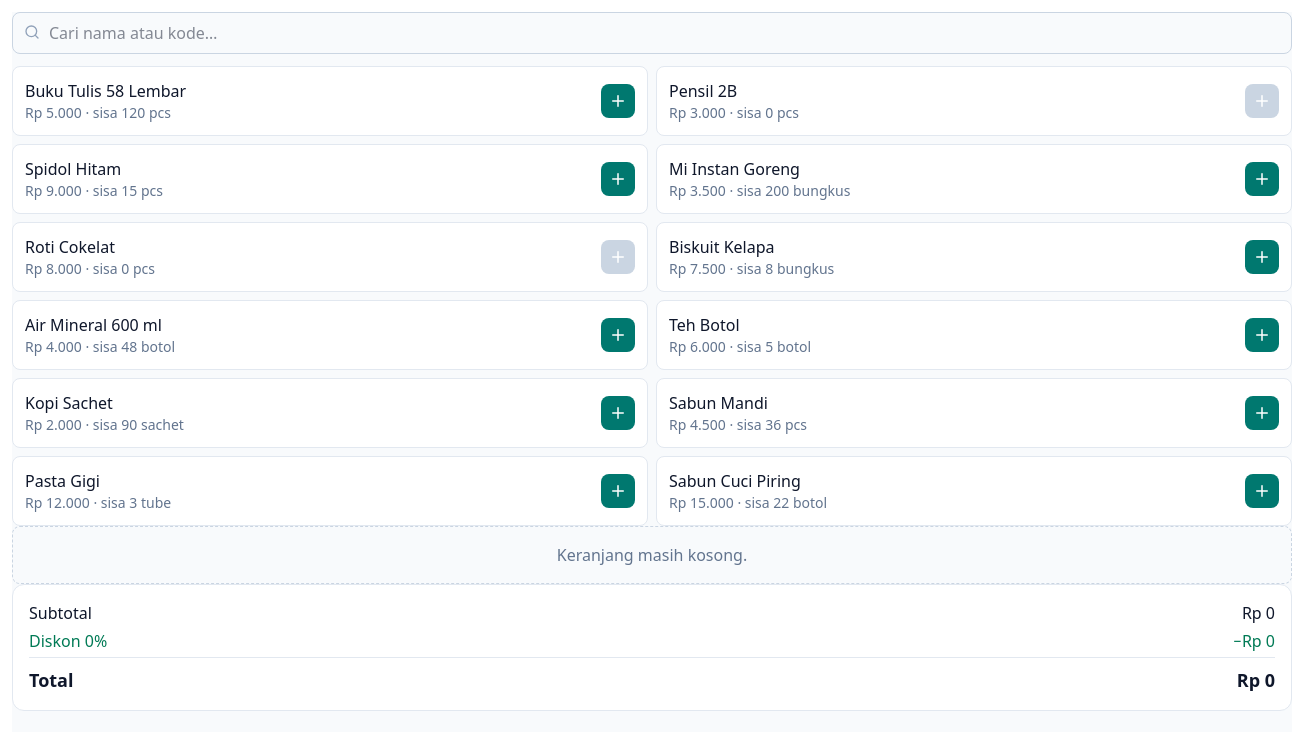
Scenario: Kasir: keranjang dan diskon › tombol tambah nonaktif setelah jumlah mencapai stok (Pasta Gigi, stok 3)
Click the button named "Tambah Pasta Gigi ke keranjang" at x=618, y=491, box [601,474,635,508]
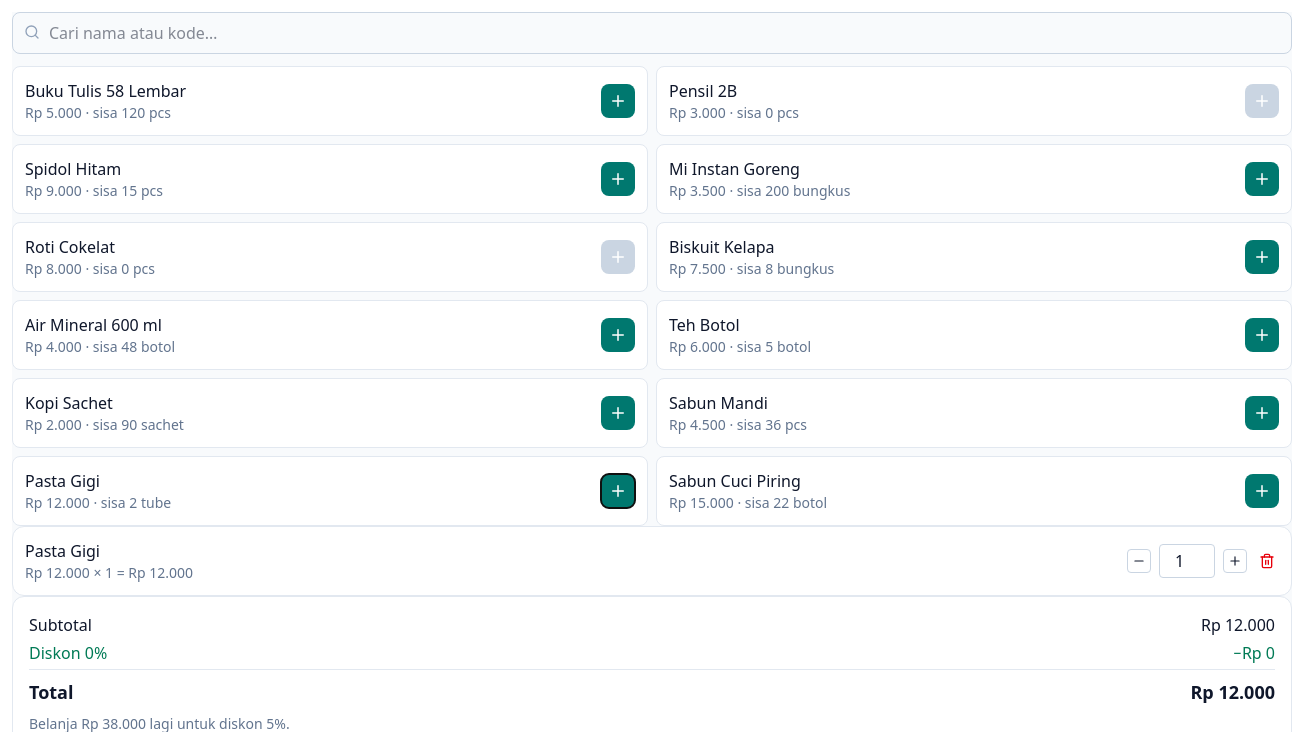
Click the button named "Tambah Pasta Gigi ke keranjang" at x=618, y=491, box [601,474,635,508]
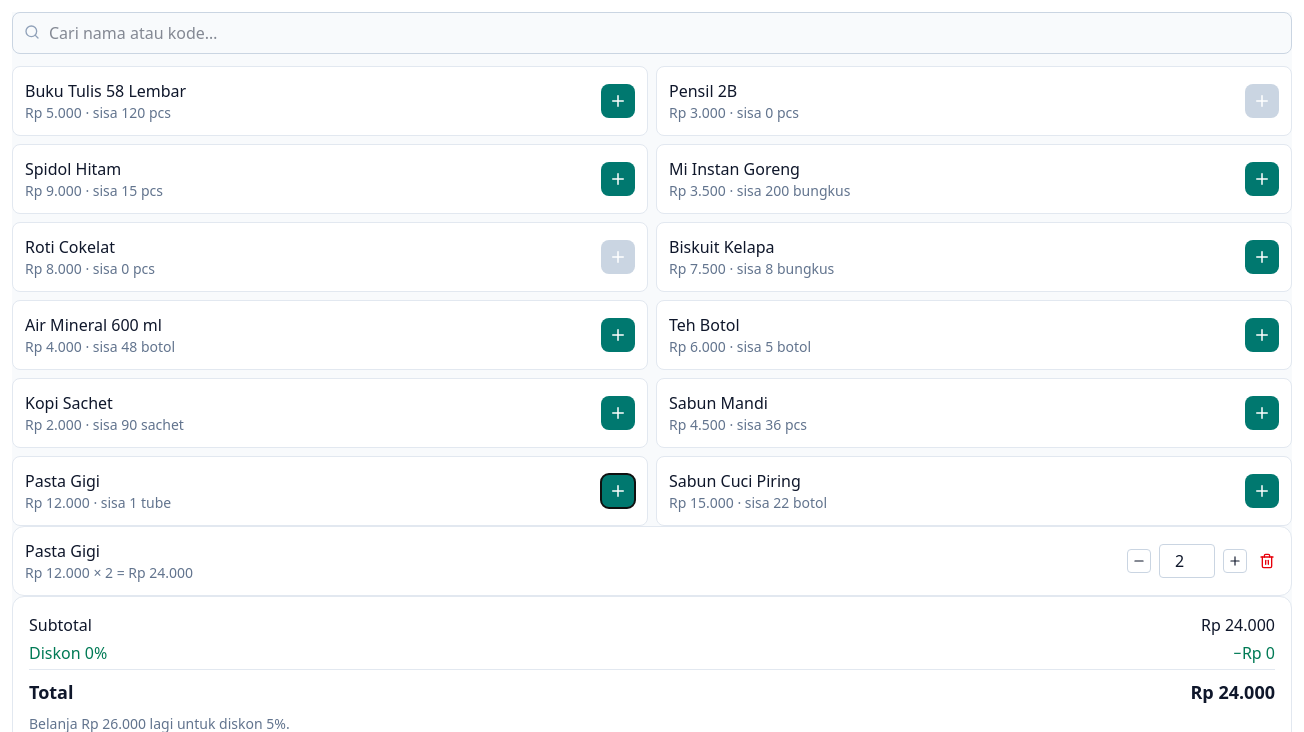
Click the button named "Tambah Pasta Gigi ke keranjang" at x=618, y=491, box [601,474,635,508]
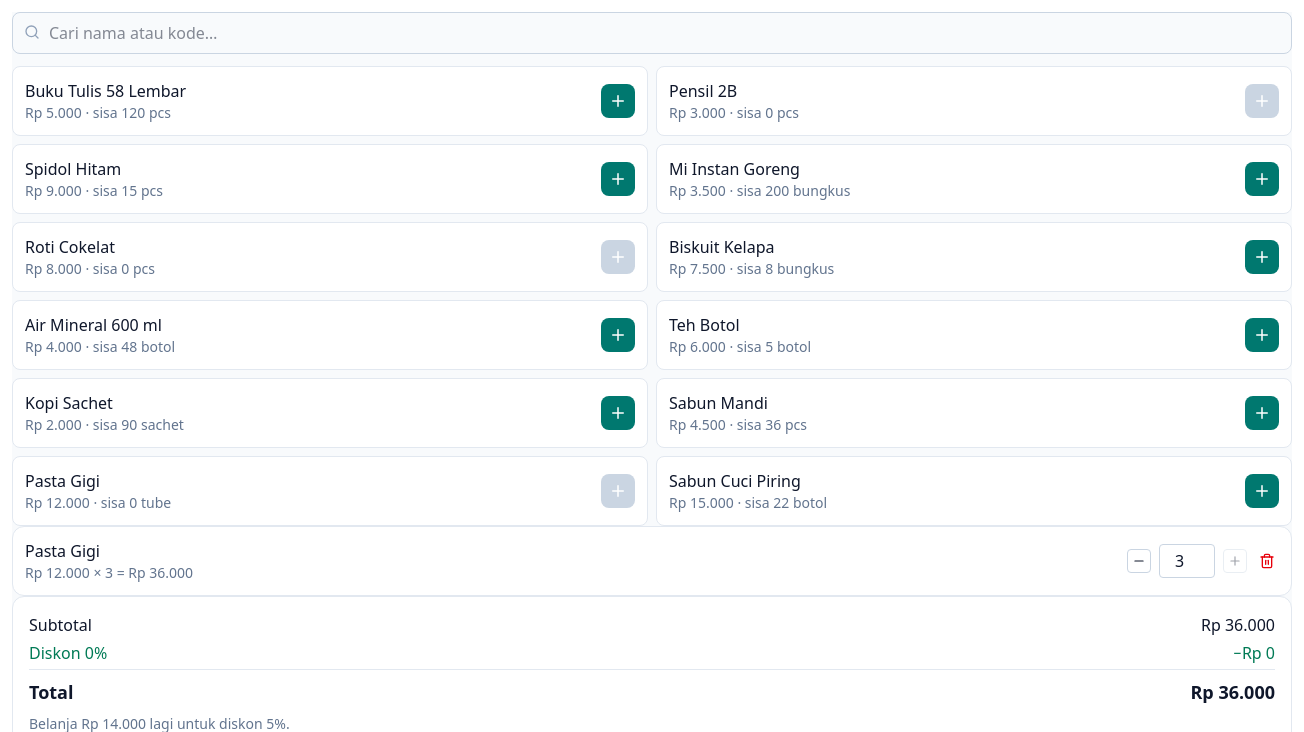
Result: the button named "Tambah Pasta Gigi ke keranjang" is disabled at [601,474,635,508]
Result: the number field named "Jumlah Pasta Gigi" holds "3" at [1159,544,1215,578]
